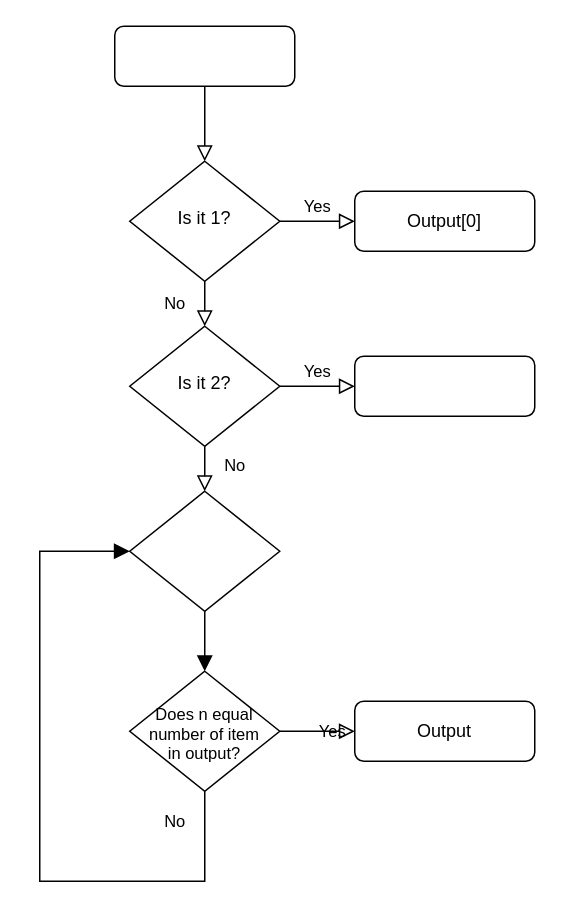
Image size: 561x923. Some labels were removed from this diagram. Each missing label, with the centre of its shape:
Output[0, 1]: pixel 444 385
START: pixel 204 55
Sum last two values: pixel 204 550
